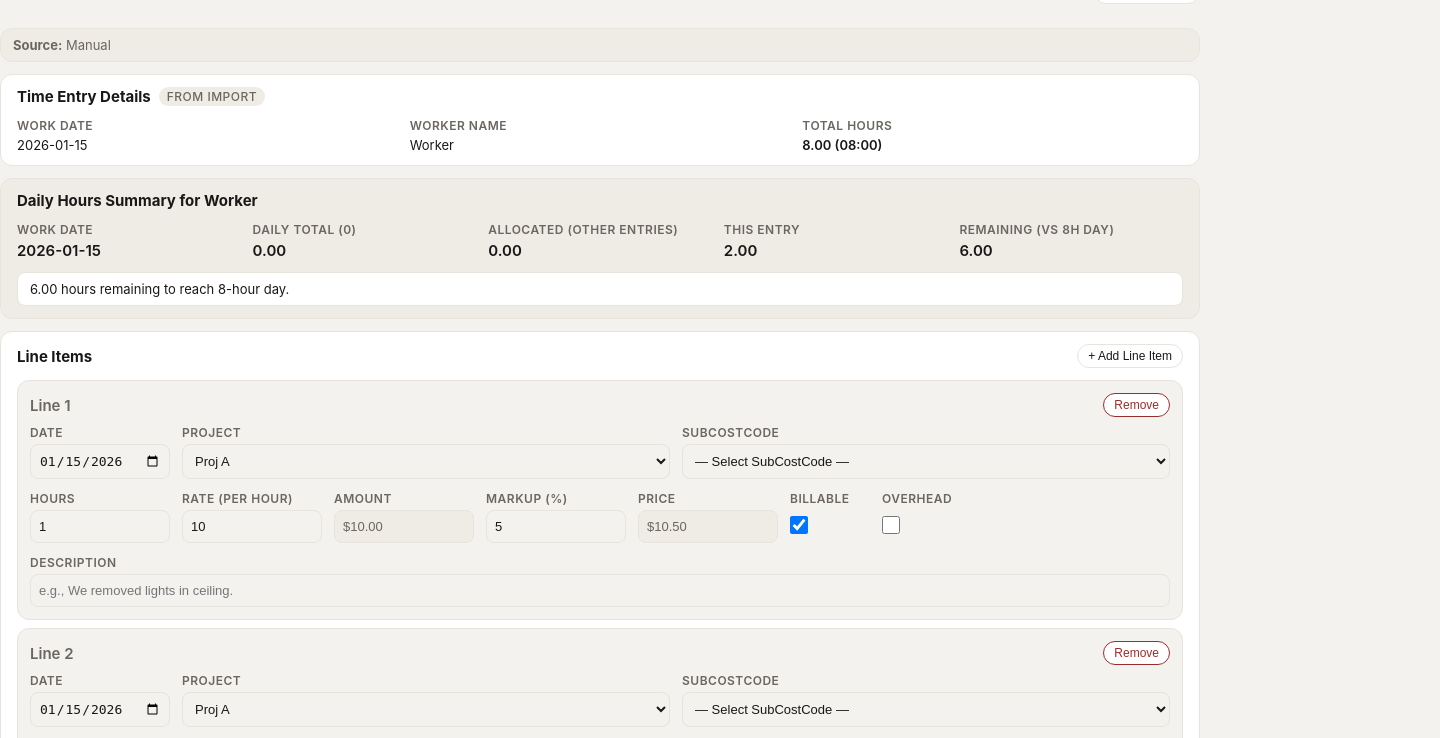
Test: ContractLaborEdit line uid identity (U-683c) › sibling lines: effective-rate patches only the row that requested it
The image size is (1440, 738).
Check: the 2nd number field holds "10", box [182,510,322,543]
Check: the 3rd number field holds "5", box [486,510,626,543]
Select "Proj A" in the 3rd dropdown at (426, 710), box [182,692,670,727]
(page scrolled)
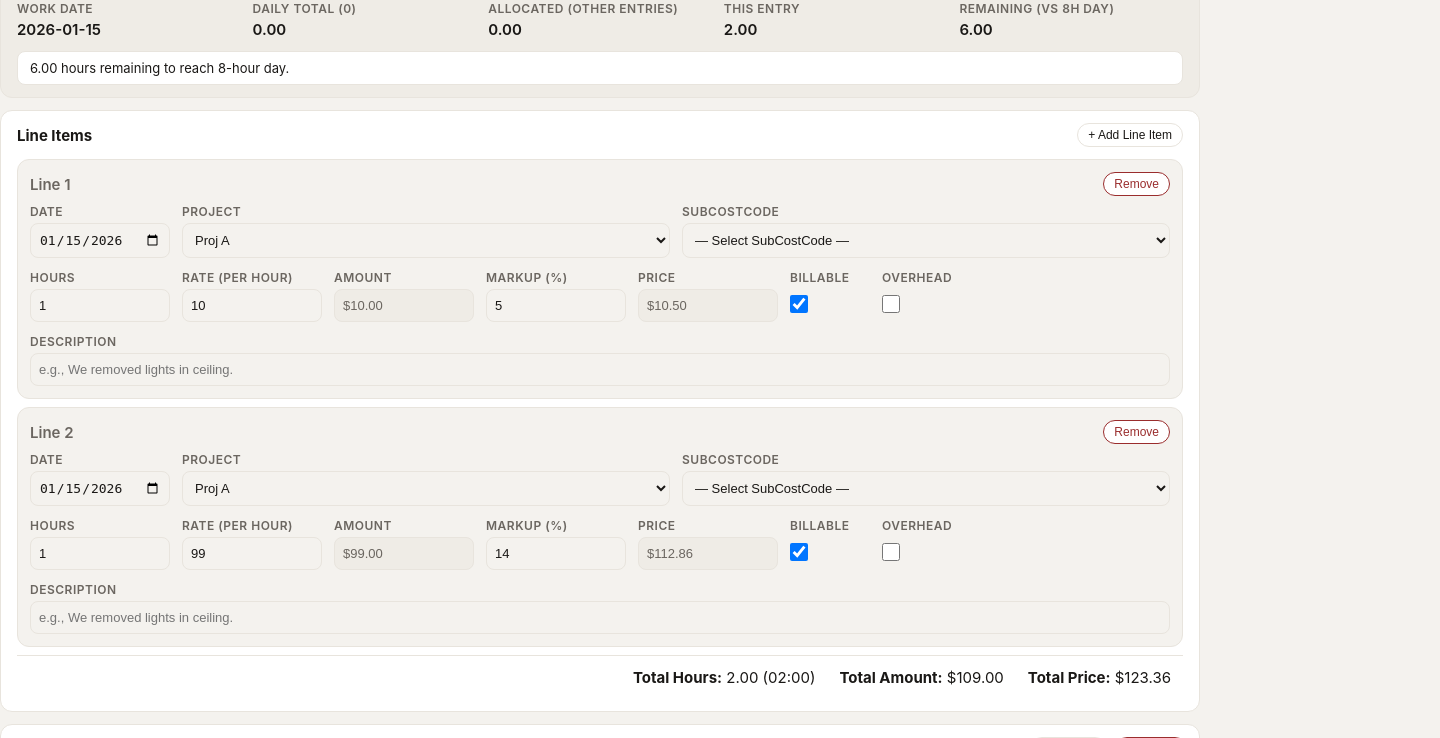
Check: the 2nd number field holds "10", box [182,289,322,322]
Check: the 5th number field holds "99", box [182,537,322,570]
Check: the 6th number field holds "14", box [486,537,626,570]
